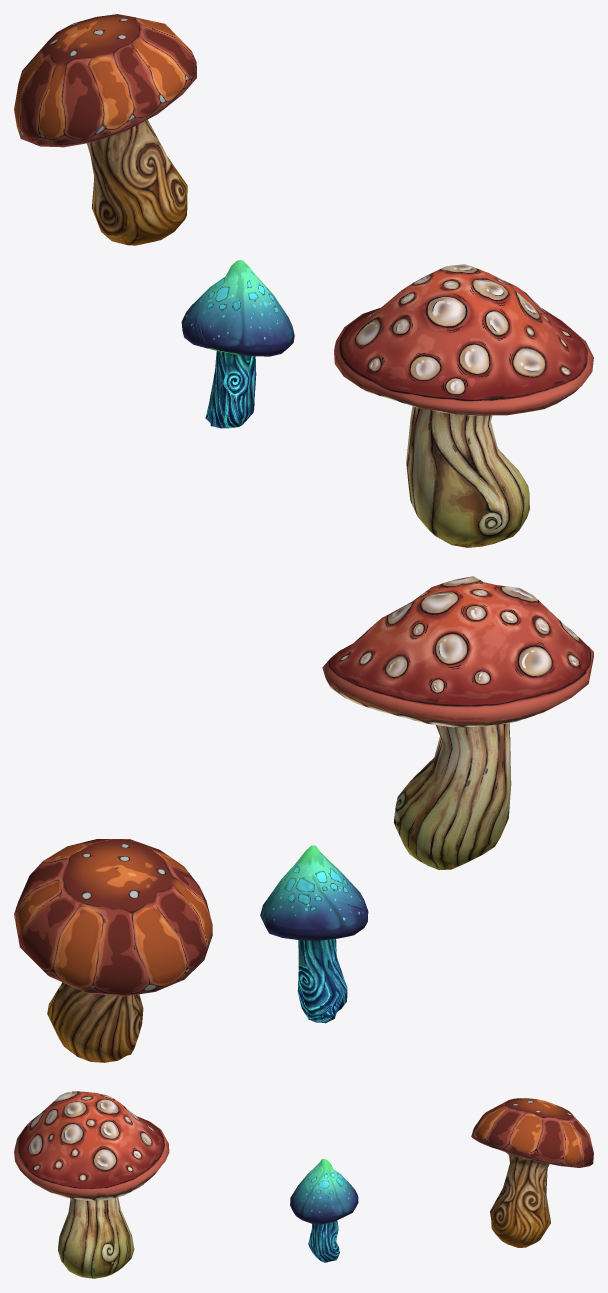
Rendered from Mashrooms.fbx.
3 renders of one model, top to bottom at view 1: azimuth 30°, elevation 25°; view 2: azimuth 150°, elevation 25°; view 3: azimuth 270°, elevation 25°, orthographic. The views are drawn at different scales.
Parts seen in each view (by area): view 1: MashroomRed, MashroomBrown, MashroomBlue; view 2: MashroomRed, MashroomBrown, MashroomBlue; view 3: MashroomRed, MashroomBrown, MashroomBlue.
Part boxes in pixels (x1,y1,x2,y2): MashroomRed: (334,264,593,547); MashroomBrown: (14,14,196,245); MashroomBlue: (181,260,294,428); MashroomRed: (322,576,593,870); MashroomBrown: (14,839,212,1062); MashroomBlue: (260,845,368,1023); MashroomRed: (14,1091,169,1278); MashroomBrown: (471,1098,593,1247); MashroomBlue: (290,1159,358,1262).
Bounding box in the file's own units: 14.82 × 16.92 × 50.99.
